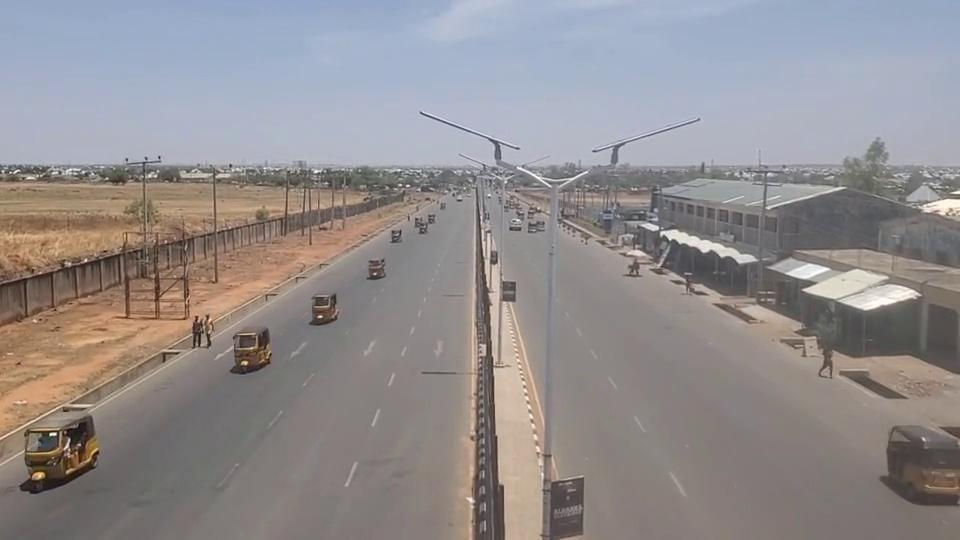keke: (885, 422, 960, 505), (22, 406, 99, 486), (232, 325, 272, 372), (310, 292, 338, 323), (367, 256, 387, 281)
